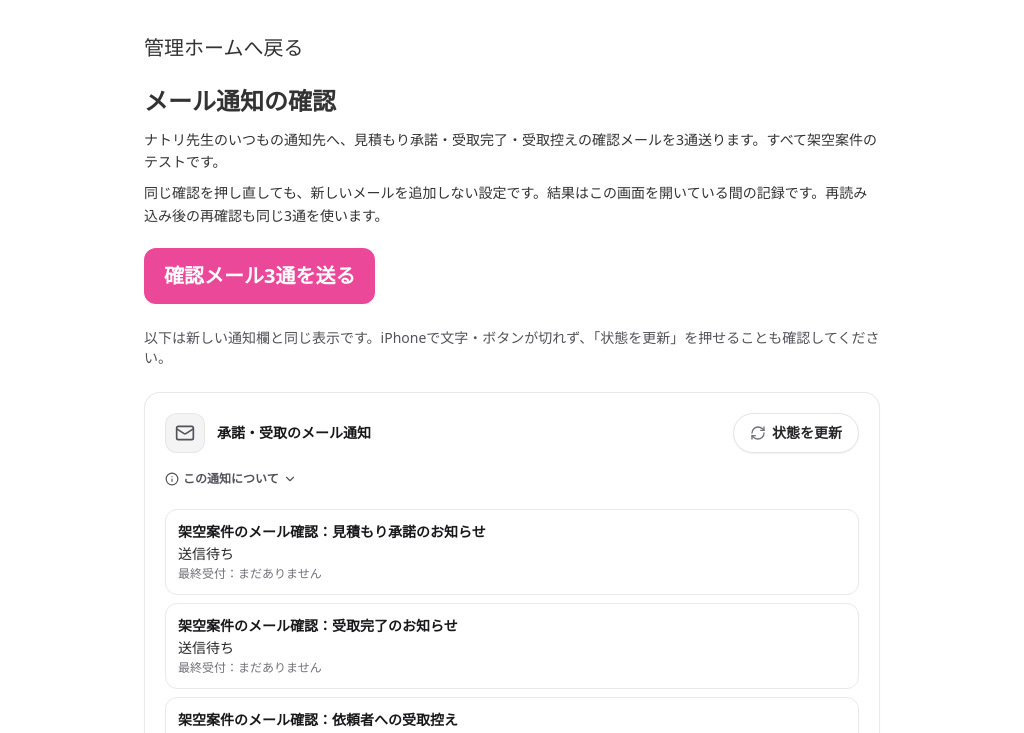
Test: the gated mail verification screen › retains known success when a repeated request becomes uncertain
Step 1. Click the button "確認メール3通を送る" → (260, 276), box [144, 248, 376, 304]
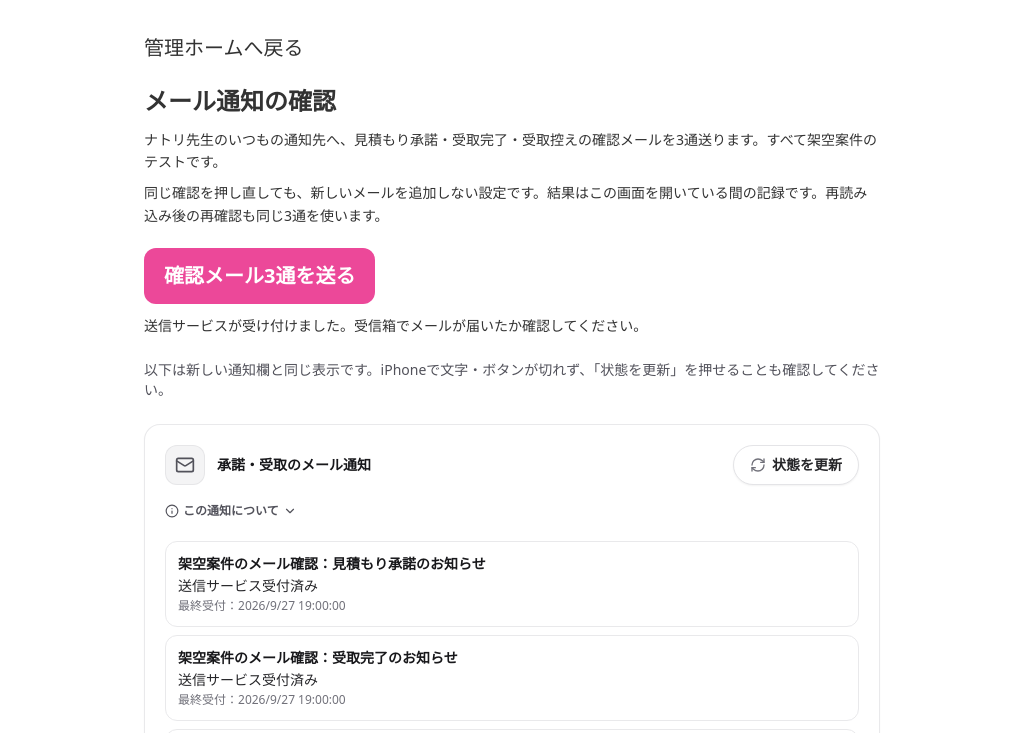
Step 2. Click the button "確認メール3通を送る" → (260, 276), box [144, 248, 376, 304]
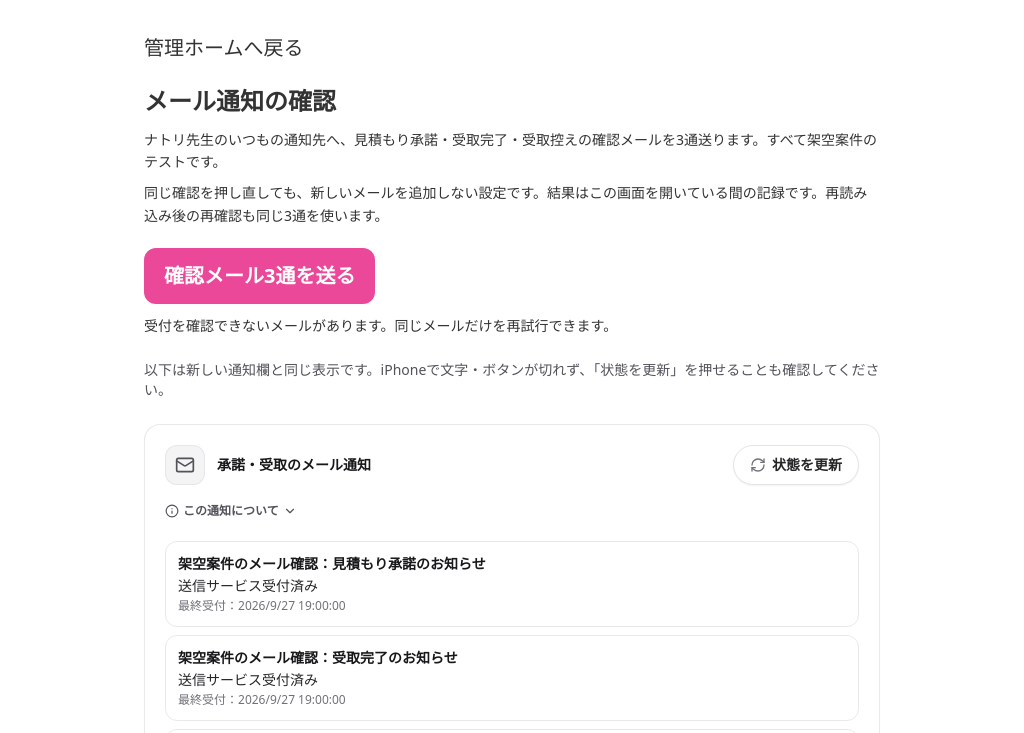
Check: the message shows "受付を確認できない", box [144, 316, 617, 335]
